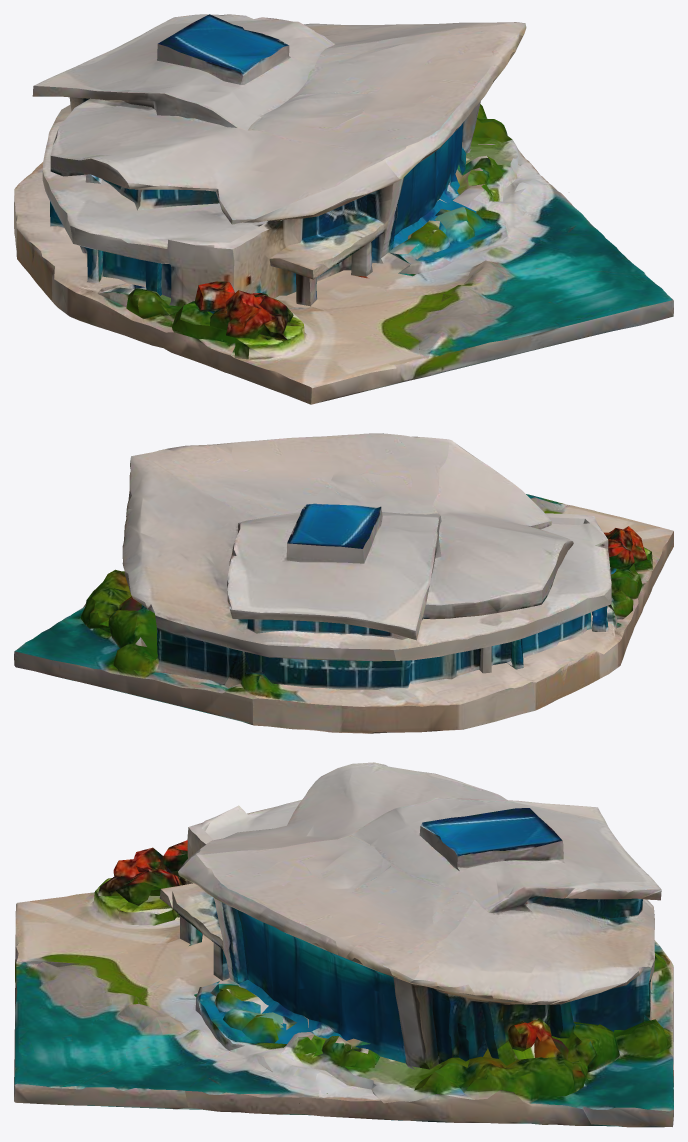
Rendered from churaumi-aquarium.glb.
3 views of the same model, one above another, from view 1: azimuth 30°, elevation 25°; view 2: azimuth 150°, elevation 25°; view 3: azimuth 270°, elevation 25° (orthographic). The views are drawn at different scales.
Parts seen in each view (by area): view 1: logan-textured.obj; view 2: logan-textured.obj; view 3: logan-textured.obj.
Boxes of the visible parts, x1,y1,x2,y2 form: logan-textured.obj: (14,14,673,404); logan-textured.obj: (14,433,673,733); logan-textured.obj: (14,762,673,1127).
Bounding box in the file's own units: 0.907 × 0.2743 × 1.
1 material, 1 textured.
